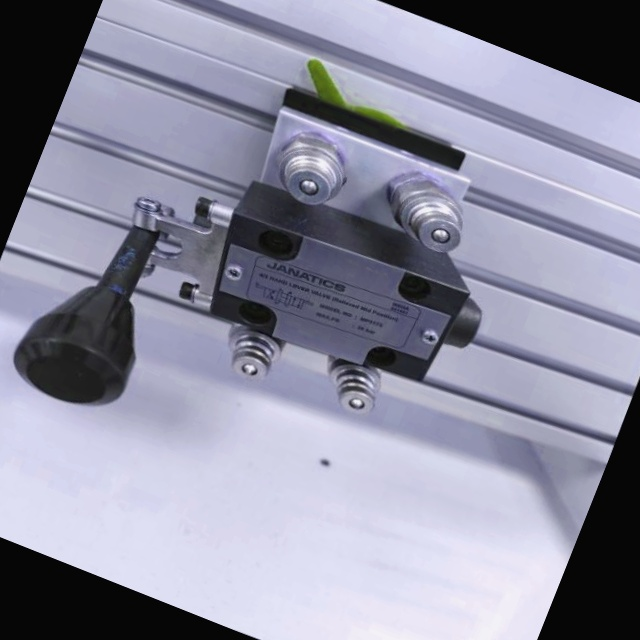4by3 hand lever valve: (0, 0, 564, 547)
